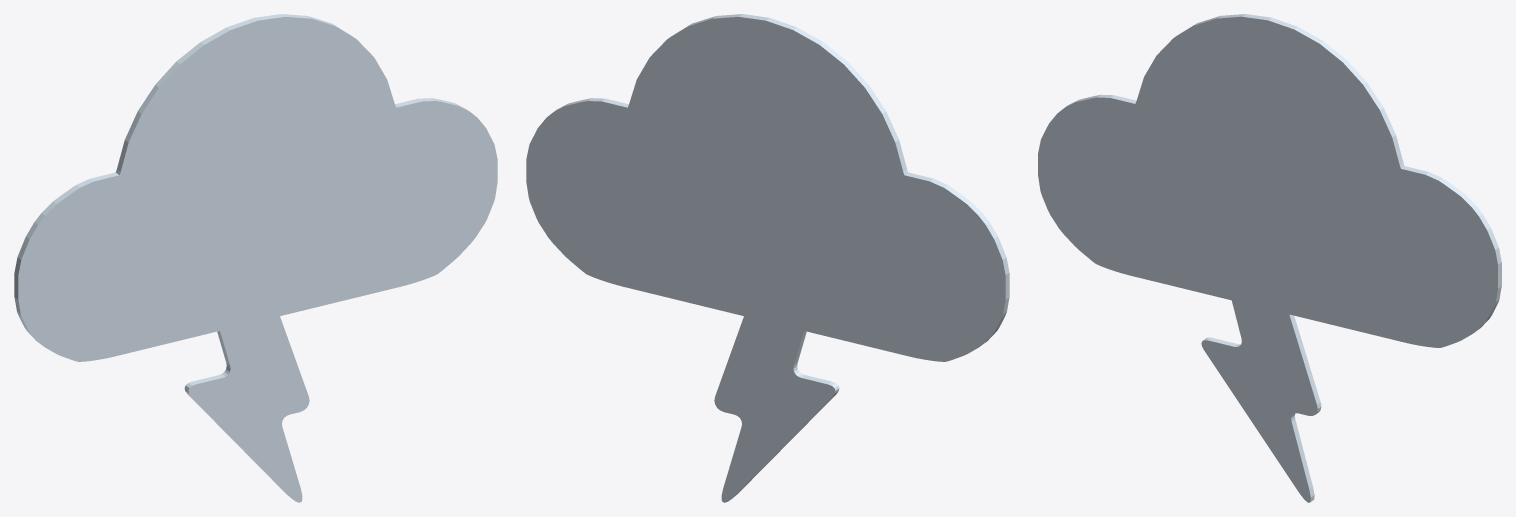
Rendered from Thunderstorm_3D_Icon_01.fbx.
3 renders of one model, left to right at view 1: azimuth 30°, elevation 25°; view 2: azimuth 150°, elevation 25°; view 3: azimuth 330°, elevation 25°, orthographic. The views are drawn at different scales.
Visible parts, largest first — view 1: Thunderstorm_3D_Icon_01; view 2: Thunderstorm_3D_Icon_01; view 3: Thunderstorm_3D_Icon_01.
Boxes of the visible parts, bbox=[...] form: Thunderstorm_3D_Icon_01: bbox=[14, 14, 497, 502]; Thunderstorm_3D_Icon_01: bbox=[526, 14, 1009, 502]; Thunderstorm_3D_Icon_01: bbox=[1038, 14, 1501, 502].
Size of the model in its own units: 142 by 140 by 2.
